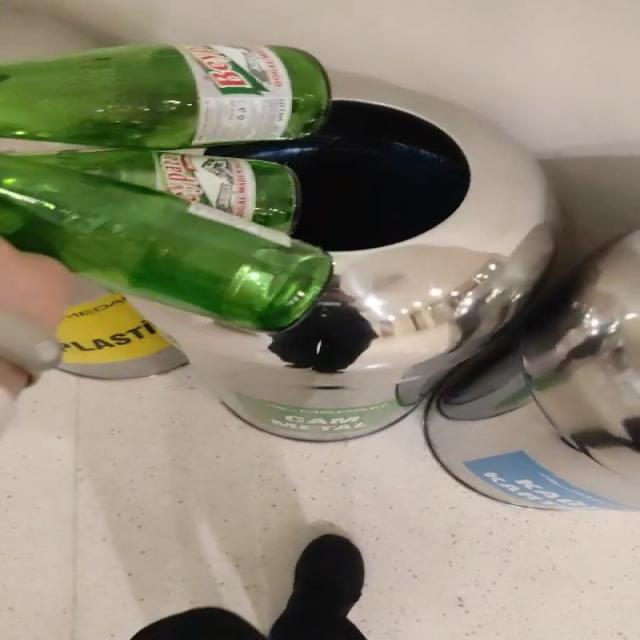bin: (135, 71, 553, 441)
glass: (1, 44, 332, 331)
